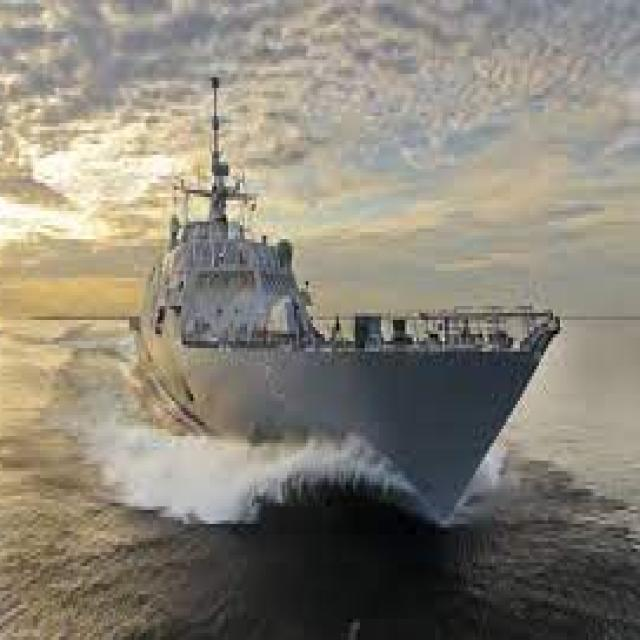navalvessels: (133, 109, 549, 509)
